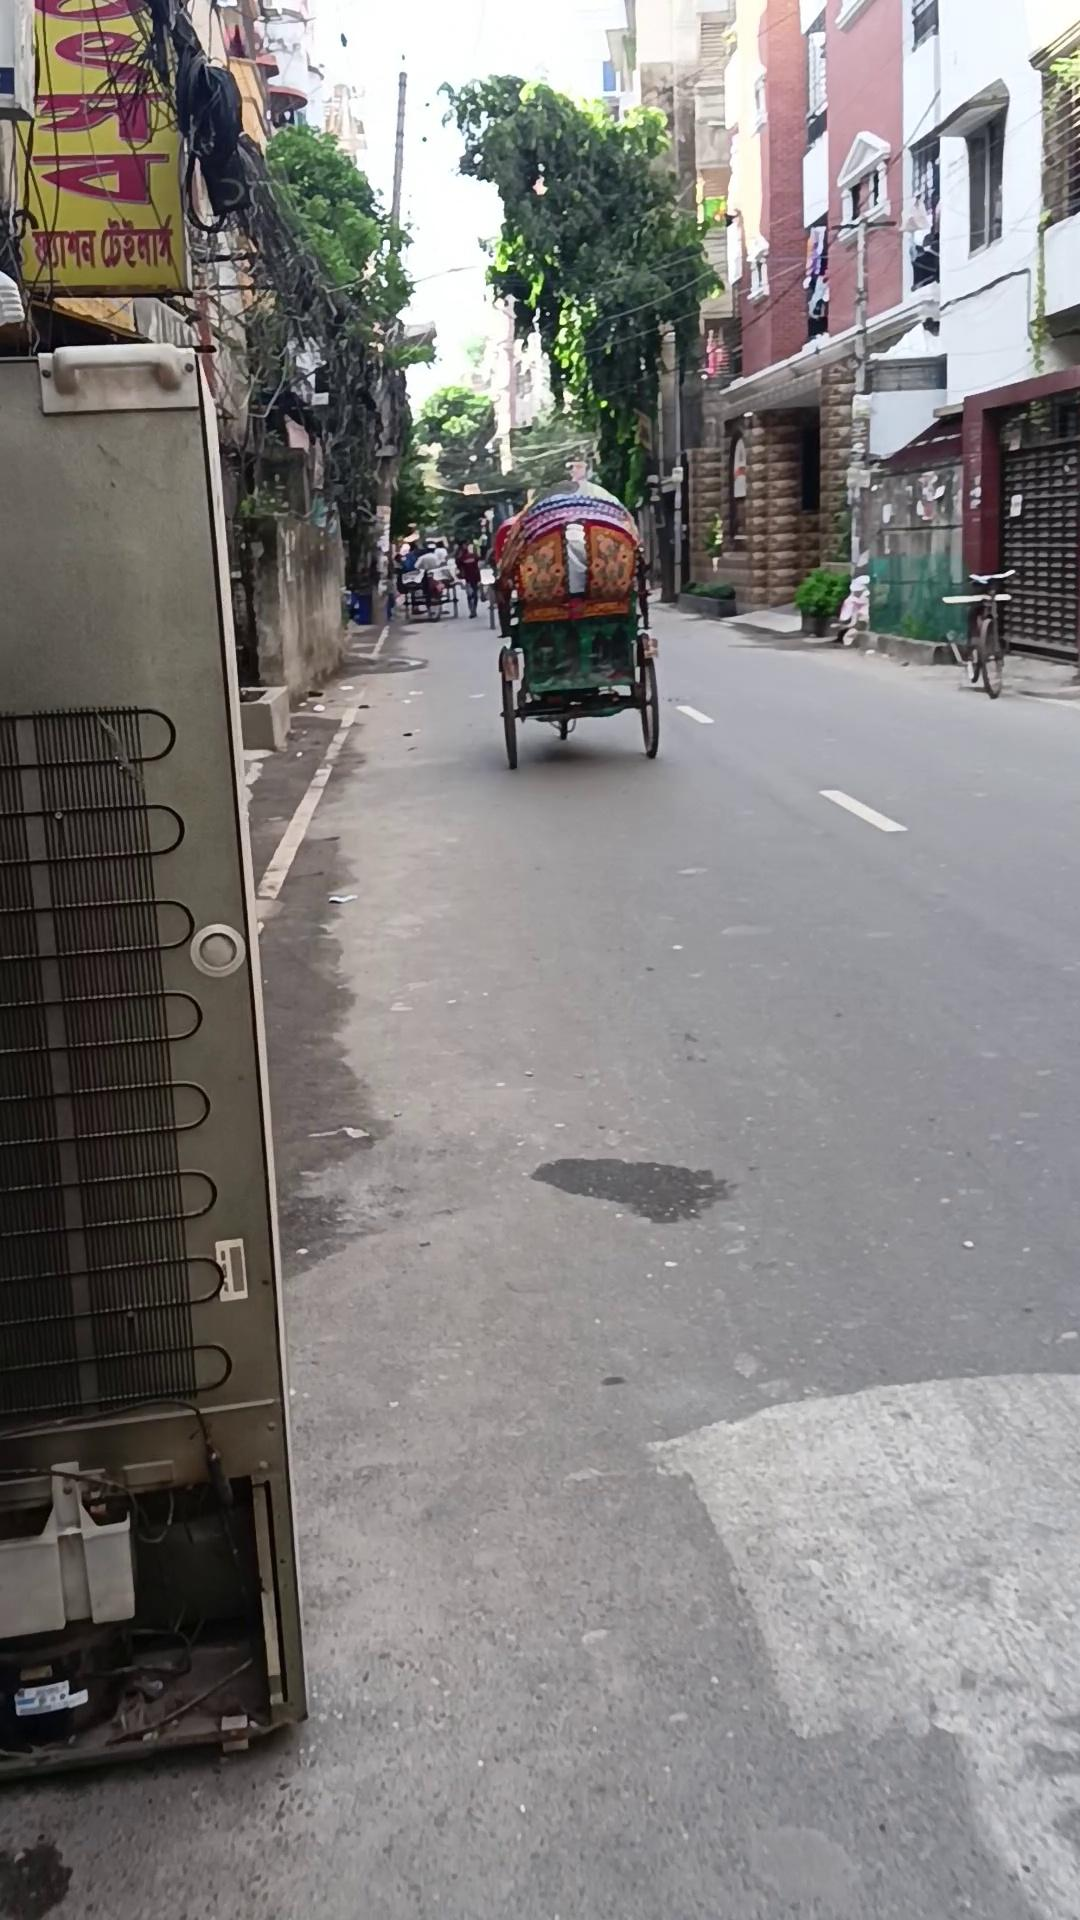Cat: (349, 587, 372, 624)
Construction-barrier: (939, 567, 1018, 699)
Crosswalk: (1, 338, 310, 1784)
Fallen-tree: (793, 568, 851, 638), (676, 579, 736, 617), (700, 512, 725, 568)
Fence: (491, 483, 659, 770)
Light-pole: (434, 70, 724, 553), (240, 117, 436, 613)
